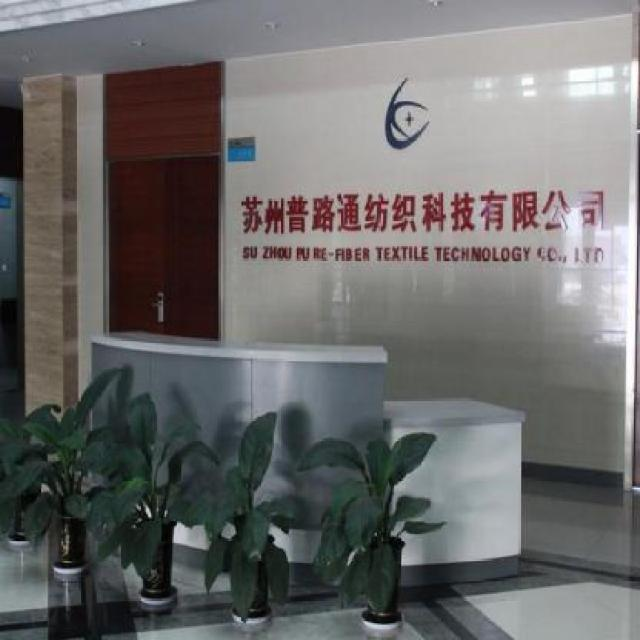frontdesk: (72, 320, 534, 600)
